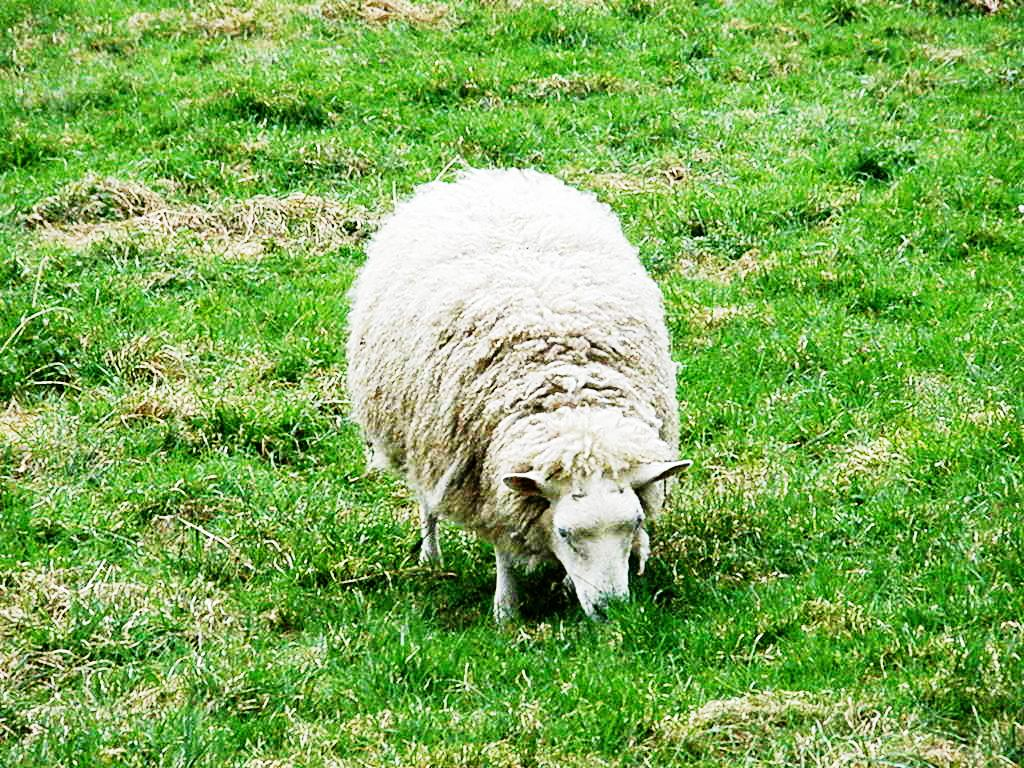Sheep: (349, 163, 694, 626)
